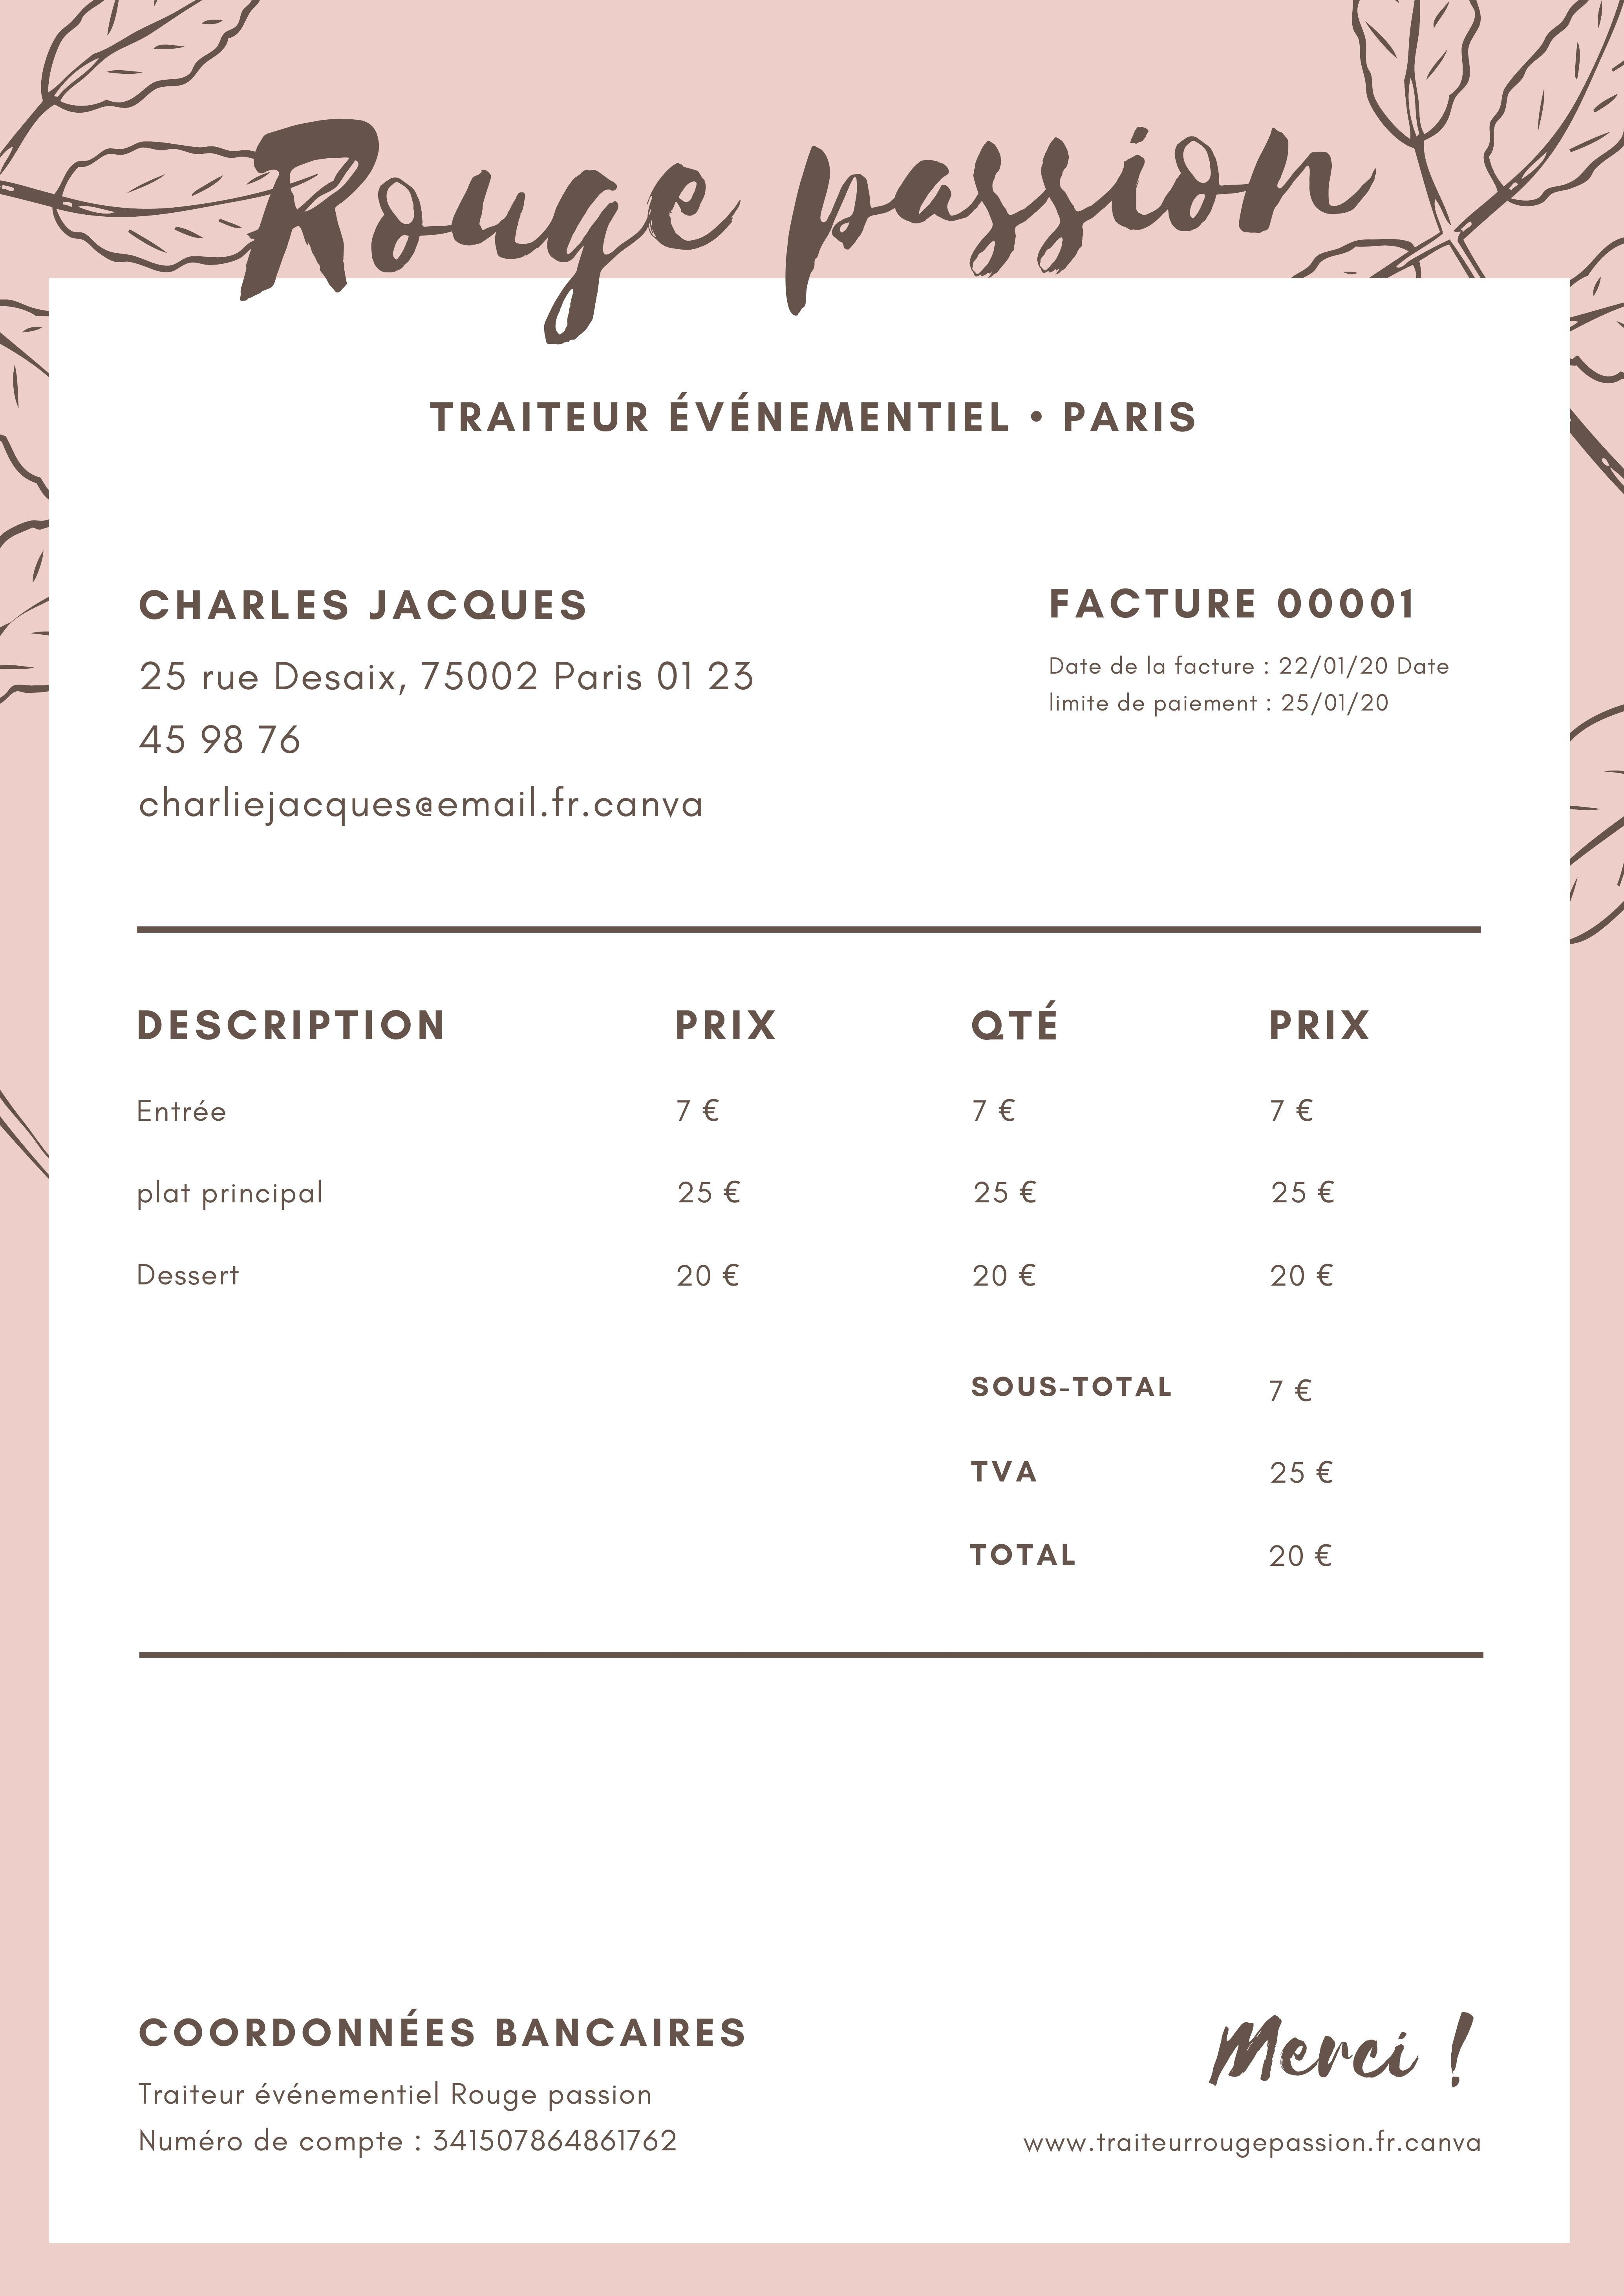ROI: (125, 993, 1378, 1588), (223, 84, 1381, 469), (114, 562, 786, 843), (127, 1997, 775, 2178), (949, 1361, 1353, 1585), (1039, 576, 1476, 748)
